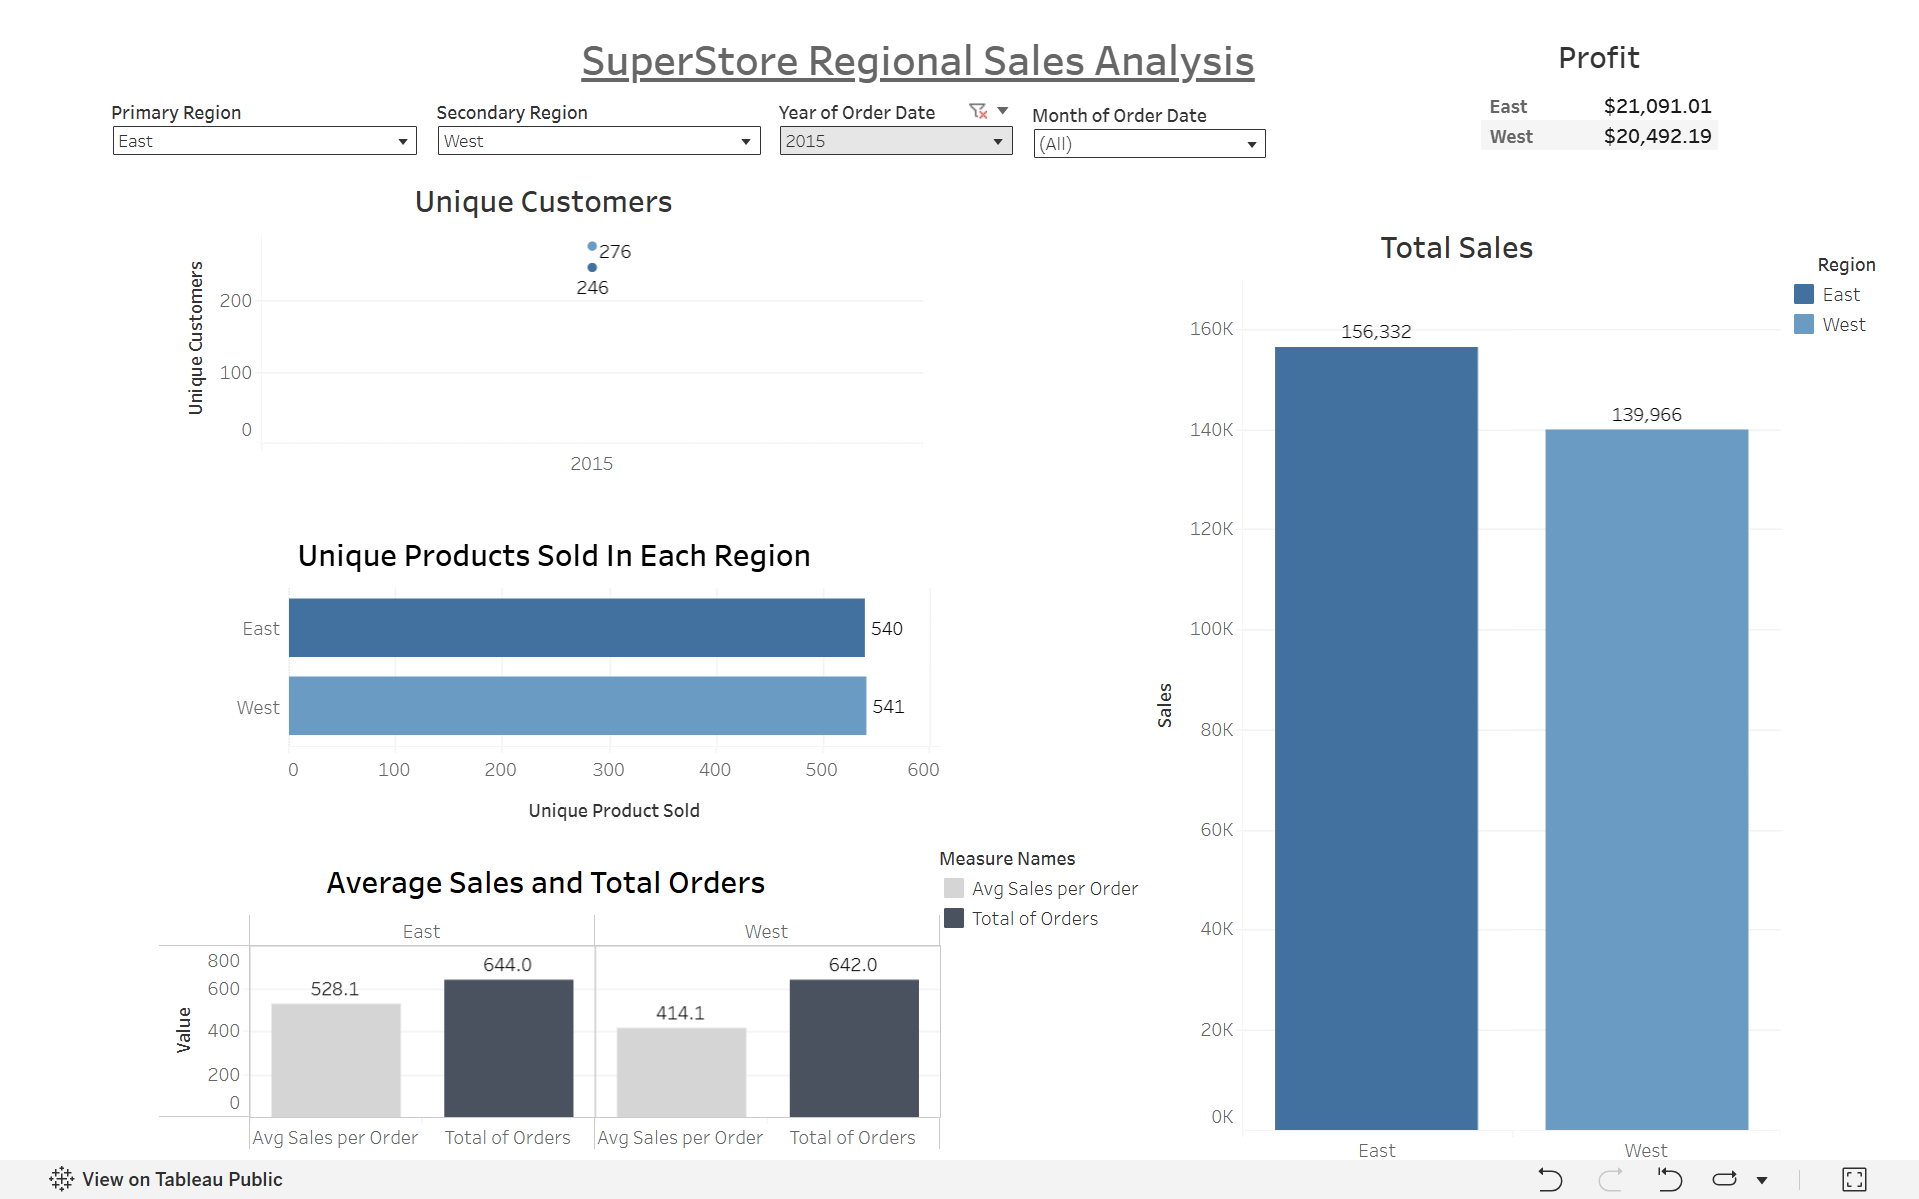

Layout of this report page (visuals, bound fields, positions):
{"tool":"tableau","page":{"name":"Dashboard 1","canvas":[1000,1000],"units":"permille","ordinal":0},"visuals":[{"type":"text","box":[242.8,6.3,470.7,87.8]},{"type":"worksheet","title":"Sheet 5","mark":"Automatic","rows":["Region"],"box":[770.9,21.9,171.7,167.7]},{"type":"parameter","param":"[Parameters].[Parameter 1]","box":[57.5,84.6,160.2,65.8]},{"type":"parameter","param":"[Parameters].[Parameter 2]","box":[227.6,84.6,169.3,73.7]},{"type":"filter","title":"Sheet 1","param":"[federated.16u9y2v0gbl93h18o0pgm0v2n4fz].[yr:Order Date:ok]","box":[405.4,84.6,122.6,75.2]},{"type":"filter","title":"Sheet 1","param":"[federated.16u9y2v0gbl93h18o0pgm0v2n4fz].[mn:Order Date:ok]","box":[537.2,86.2,122.6,75.2]},{"type":"worksheet","title":"Sheet 3","mark":"Automatic","rows":["Calculation_0014019557298286"],"cols":["Order Date"],"box":[88.9,145.8,391.6,264.9]},{"type":"worksheet","title":"Sheet 1","mark":"Automatic","rows":["Sales"],"cols":["Calculation_0014019552890979"],"box":[593.9,186.5,333.3,816.6]},{"type":"legend","title":"Sheet 1","param":"[federated.16u9y2v0gbl93h18o0pgm0v2n4fz].[none:Calculation_0014019552890979:nk]","box":[931.8,216.3,62.1,92.5]},{"type":"worksheet","title":"Sheet 4","mark":"Automatic","rows":["Calculation_0014019552890979"],"cols":["Calculation_0014019558559855"],"box":[87.4,451.4,402.3,264.9]},{"type":"legend","title":"Sheet 2","param":"[federated.16u9y2v0gbl93h18o0pgm0v2n4fz].[:Measure Names]","box":[488.9,728.8,118,127]},{"type":"worksheet","title":"Sheet 2","mark":"Automatic","cols":["Calculation_0014019552890979"],"box":[82.8,733.5,406.9,258.6]}]}

Visuals, with their boxes on the dashboard's canvas, which has no fixed pixel size, in thousandths of its width and height (x1, y1, x2, y2). These are canvas units, not pixel positions in the 1919x1199 screenshot, which may show the page scaled, cropped or inside an application window:
text: crop(243, 6, 714, 94)
"Sheet 5" worksheet: crop(771, 22, 943, 190)
parameter: crop(58, 85, 218, 150)
parameter: crop(228, 85, 397, 158)
"Sheet 1" filter: crop(405, 85, 528, 160)
"Sheet 1" filter: crop(537, 86, 660, 161)
"Sheet 3" worksheet: crop(89, 146, 480, 411)
"Sheet 1" worksheet: crop(594, 186, 927, 1003)
"Sheet 1" legend: crop(932, 216, 994, 309)
"Sheet 4" worksheet: crop(87, 451, 490, 716)
"Sheet 2" legend: crop(489, 729, 607, 856)
"Sheet 2" worksheet: crop(83, 734, 490, 992)
